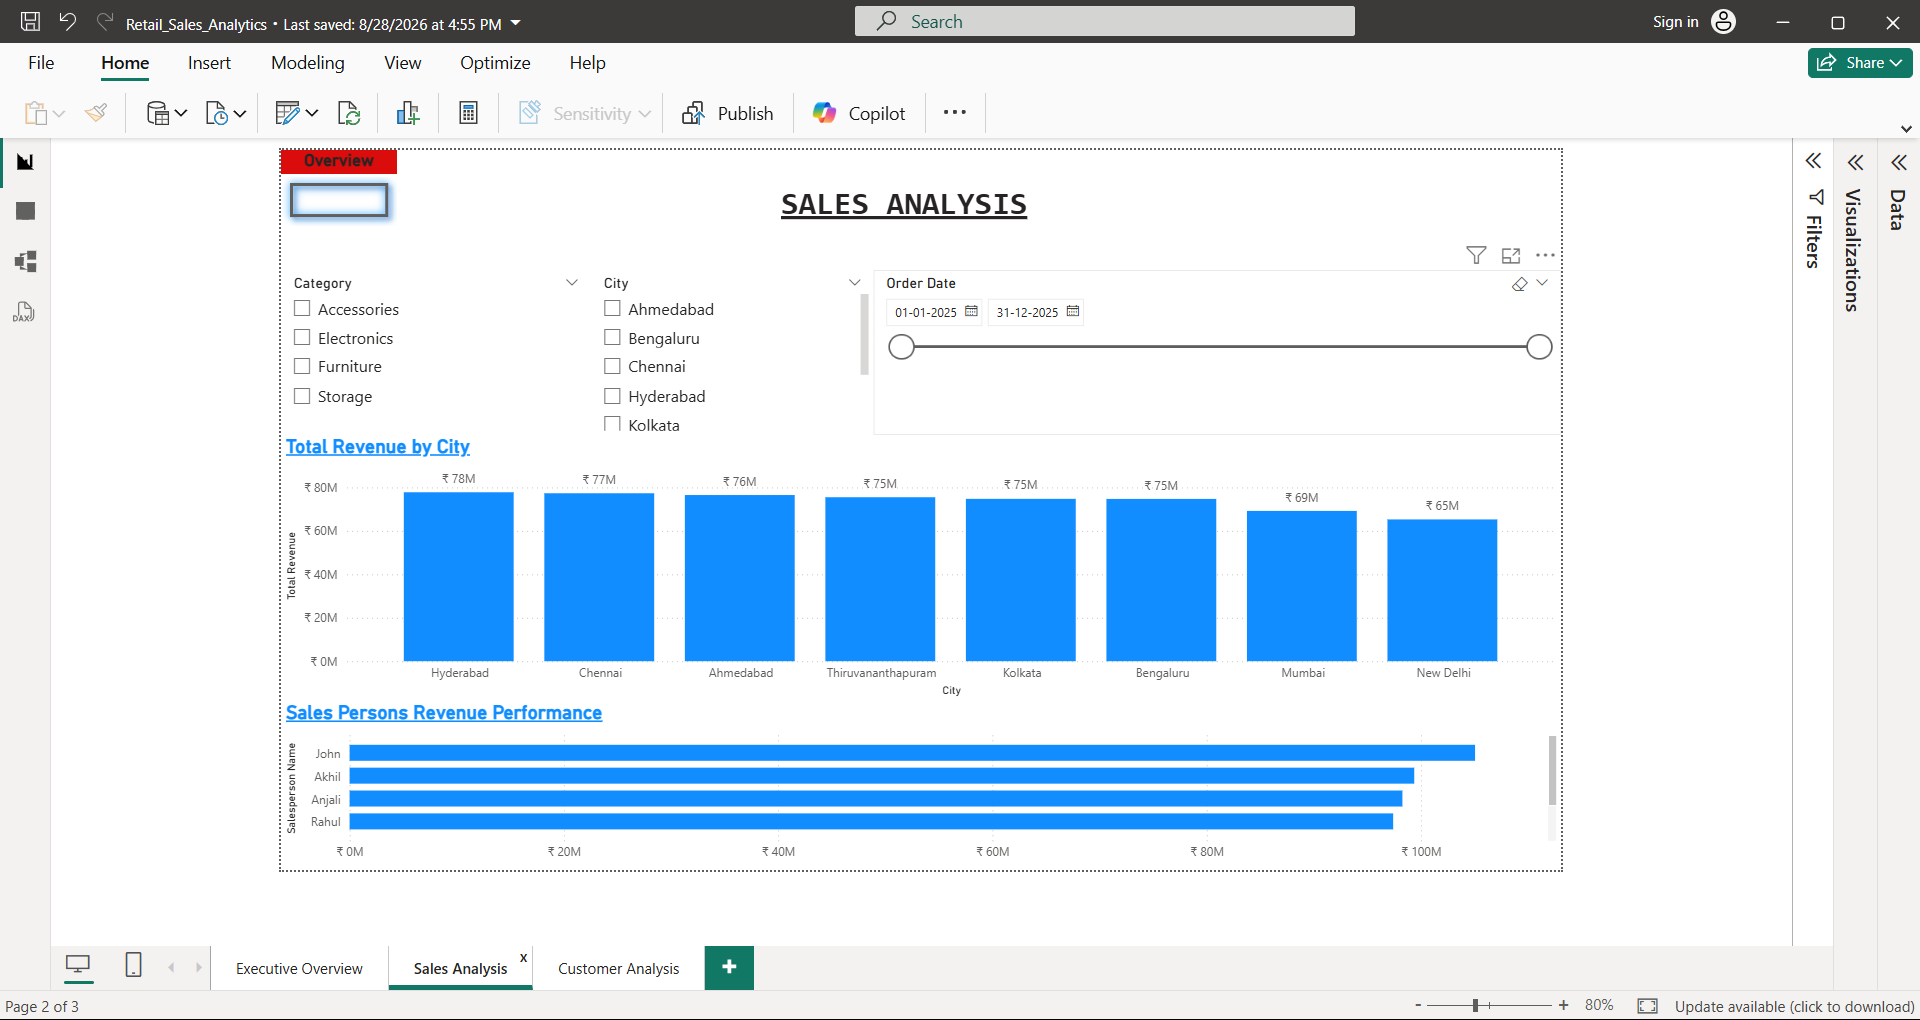

Layout of this report page (visuals, bound fields, positions):
{"tool":"powerbi","page":{"name":"Sales Analysis","canvas":[1280,720],"ordinal":1},"visuals":[{"type":"clusteredColumnChart","fields":{"Category":["Locations.City"],"Y":["Sales.Total Revenue"]},"box":[0,285.4,1280.3,266.2],"z":0},{"type":"clusteredBarChart","title":"Sales Persons Revenue Performance","fields":{"Category":["Salespersons.Salesperson Name"],"Y":["Sales.Total Revenue"]},"box":[0,551.6,1280.3,168.8],"z":1000},{"type":"slicer","fields":{"Values":["Products.Category"]},"box":[0,119.4,310.1,166],"z":2000},{"type":"slicer","fields":{"Values":["Locations.City"]},"box":[310.1,119.4,282.7,166],"z":3000},{"type":"slicer","fields":{"Values":["Sales.Order Date"]},"box":[592.5,119.4,687.5,166],"z":4000},{"type":"textbox","box":[495.4,30.2,286.8,63.1],"z":5000},{"type":"actionButton","title":"Overview","box":[0,0,116.2,76.2],"z":6000}]}

Visuals, with their boxes on the page's 1280x720 design canvas (x1, y1, x2, y2). These are canvas units, not pixel positions in the 1920x1020 screenshot, which may show the page scaled, cropped or inside an application window:
clusteredColumnChart - Locations.City x Sales.Total Revenue: <box>0,285,1280,552</box>
"Sales Persons Revenue Performance" clusteredBarChart: <box>0,552,1280,720</box>
slicer - Products.Category: <box>0,119,310,285</box>
slicer - Locations.City: <box>310,119,593,285</box>
slicer - Sales.Order Date: <box>592,119,1280,285</box>
textbox: <box>495,30,782,93</box>
"Overview" actionButton: <box>0,0,116,76</box>
